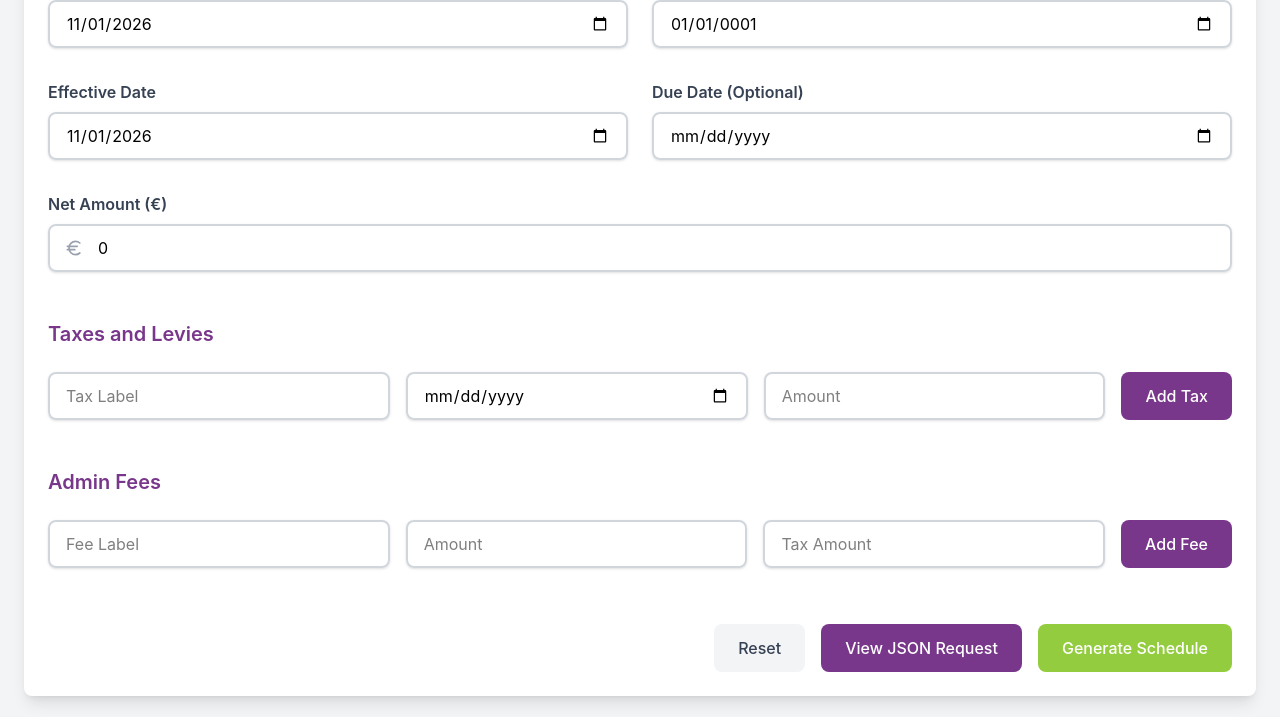
Scenario: NewSchedule › adds and removes an admin fee entry
(page scrolled)
Type "SMD" into the field with placeholder "Fee Label" at (219, 544), box [48, 520, 390, 568]
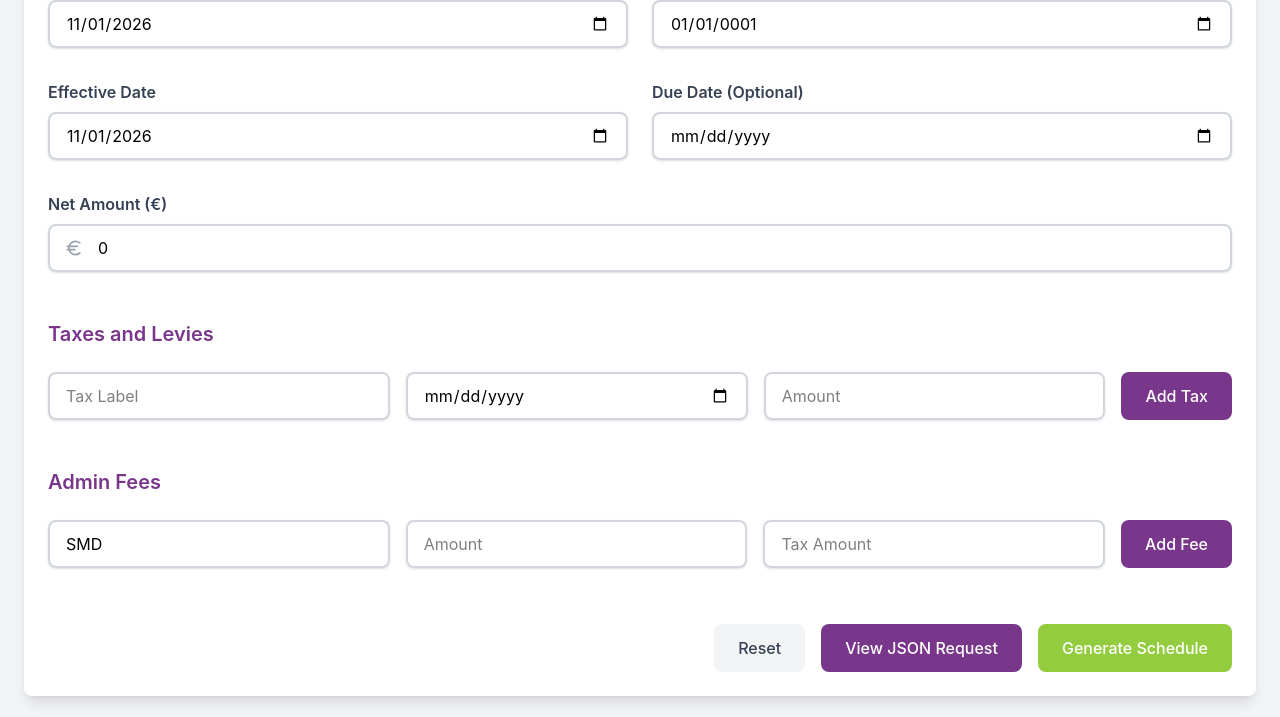
Type "10" into the number field with placeholder "Amount" below "Admin Fees" at (577, 544), box [406, 520, 747, 568]
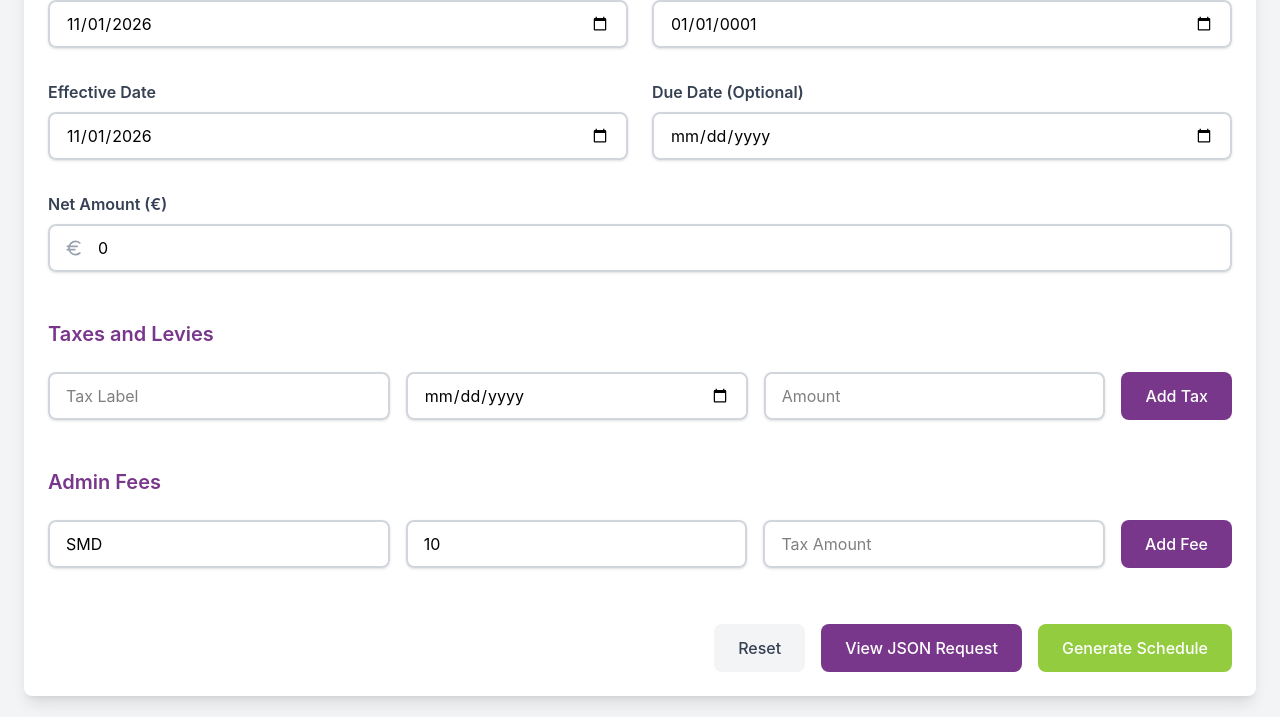
Click the button "Add Fee" at (1177, 544), box [1121, 520, 1232, 568]
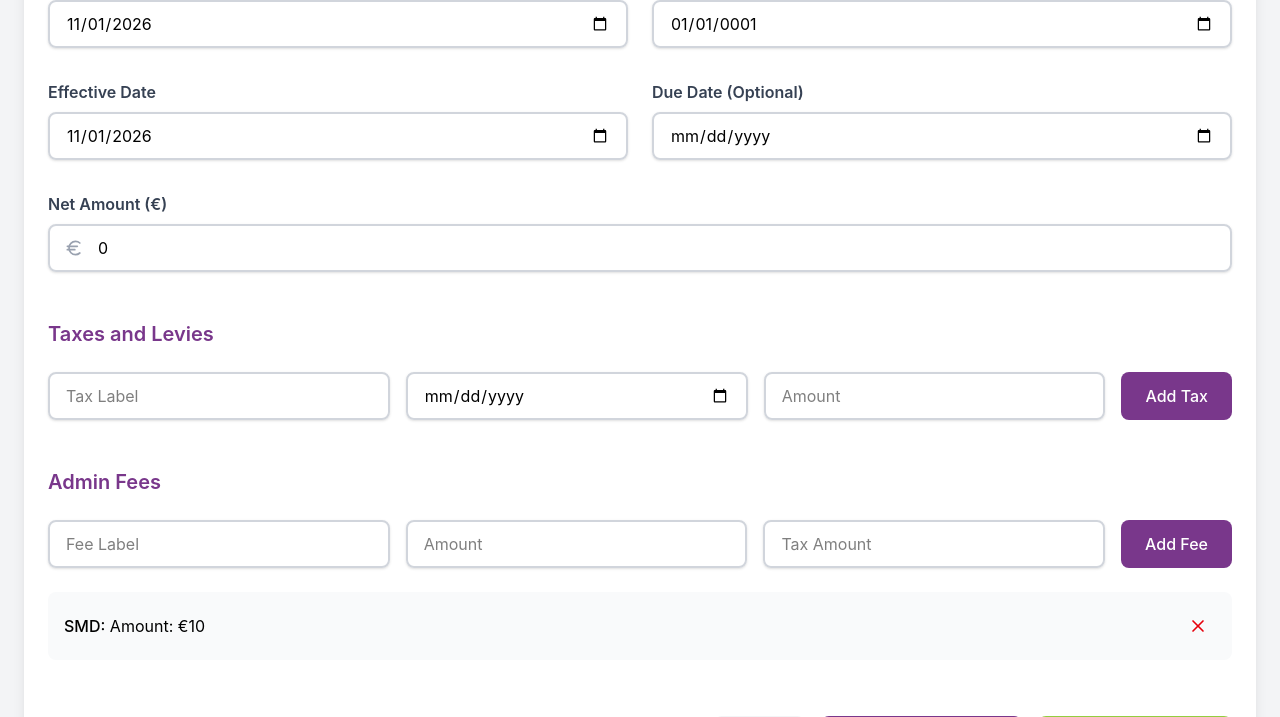
expect the text "SMD:" is shown: met, box [64, 616, 105, 636]
Click the button titled "Remove fee" at (1198, 626), box [1180, 608, 1216, 644]
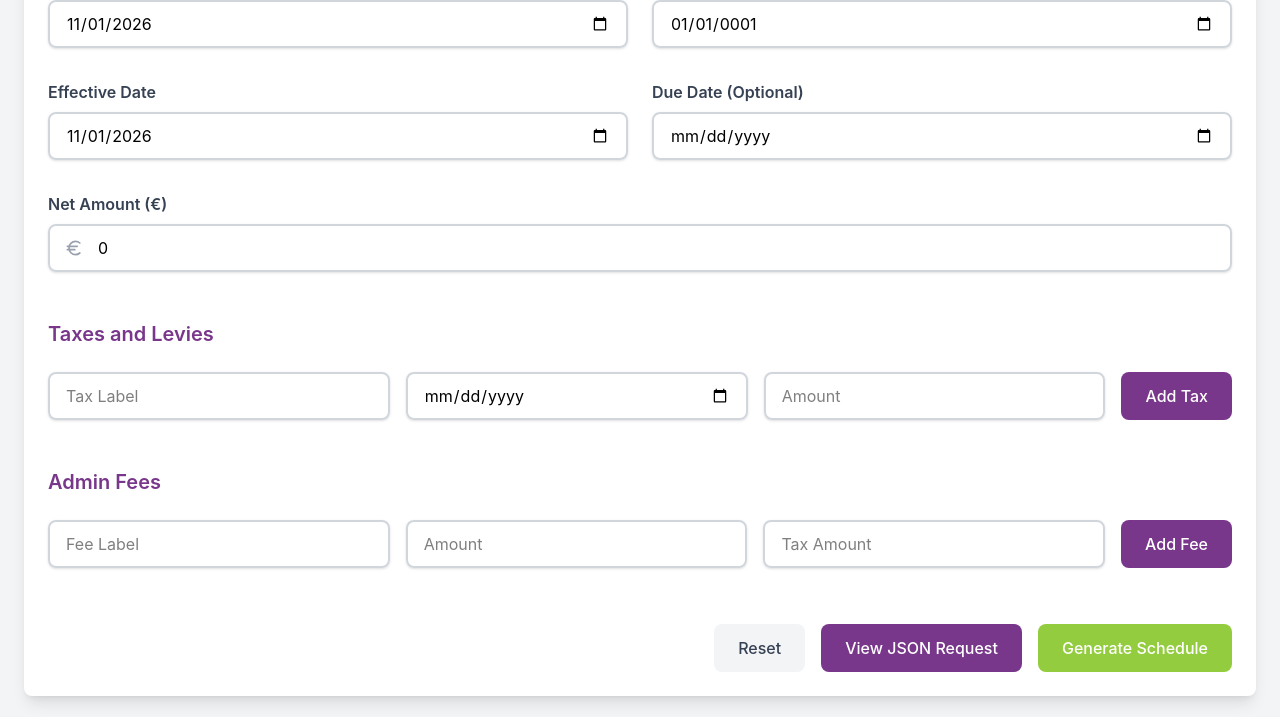
expect the text "SMD:" is gone: met
